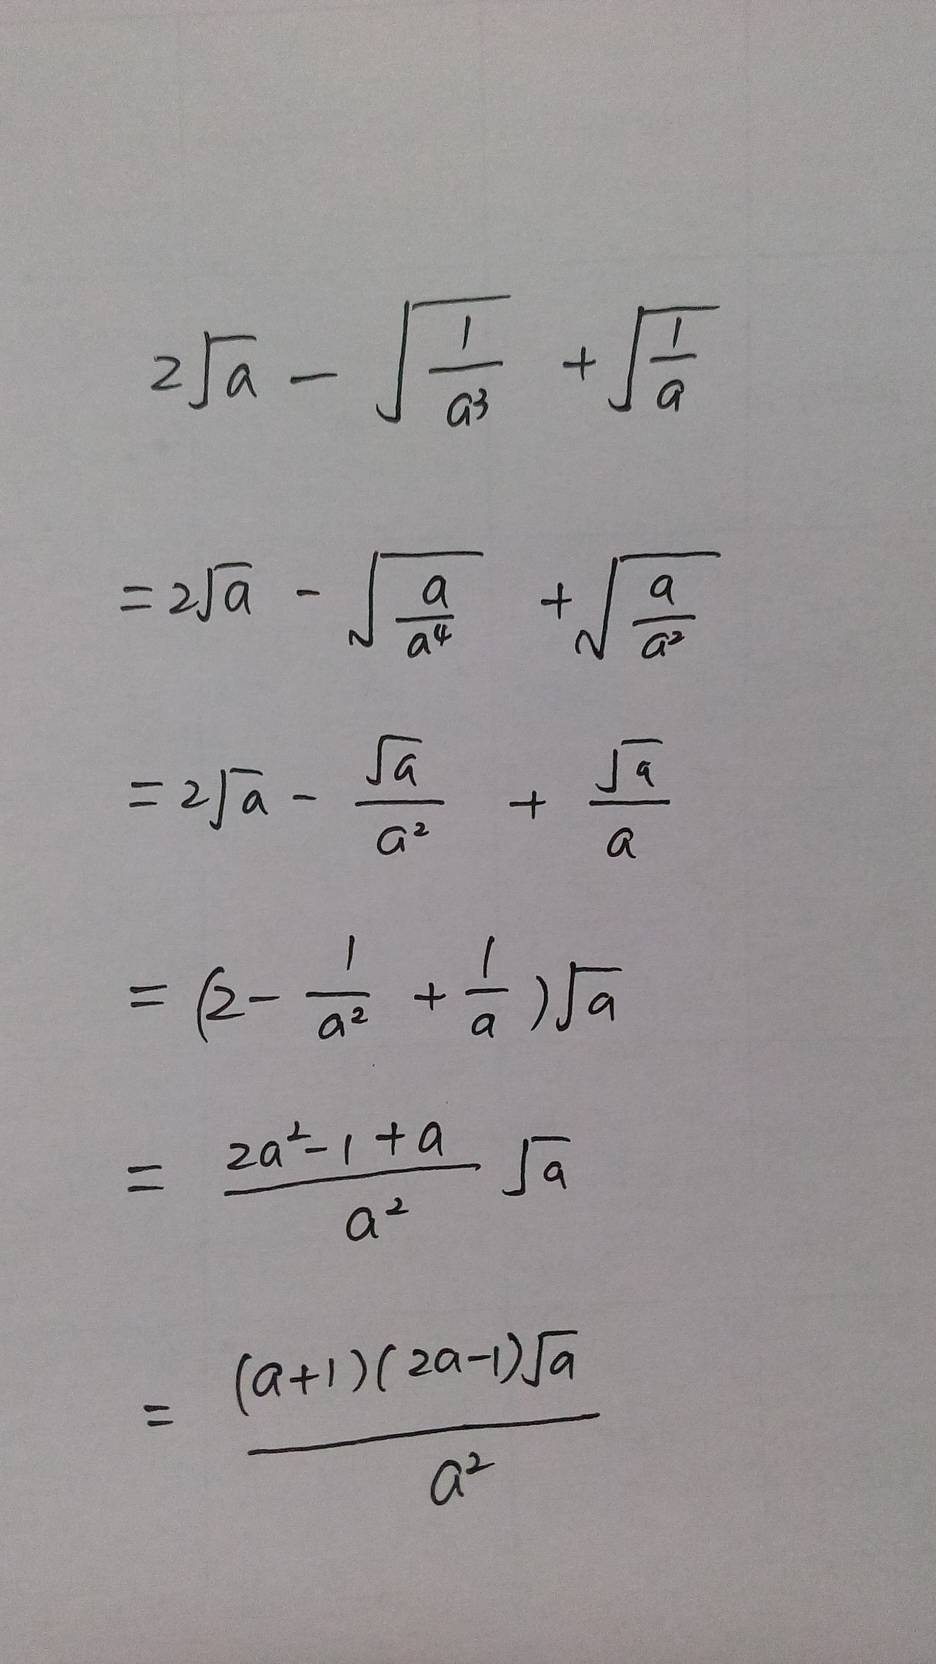cube: (469, 381, 496, 411)
division: (223, 1150, 491, 1211), (229, 1416, 637, 1447), (418, 355, 515, 389), (641, 343, 693, 367), (448, 979, 515, 997)
sqrt: (573, 539, 729, 679), (342, 538, 489, 677), (382, 298, 506, 433), (608, 295, 720, 419), (491, 1123, 582, 1211), (520, 1317, 608, 1407), (189, 325, 267, 411), (594, 728, 667, 817), (549, 950, 615, 1048), (203, 759, 275, 838), (357, 726, 425, 798), (198, 554, 256, 624)
square: (458, 1445, 504, 1474), (286, 1117, 317, 1147), (375, 1192, 405, 1224), (346, 998, 368, 1031), (667, 629, 687, 645)
